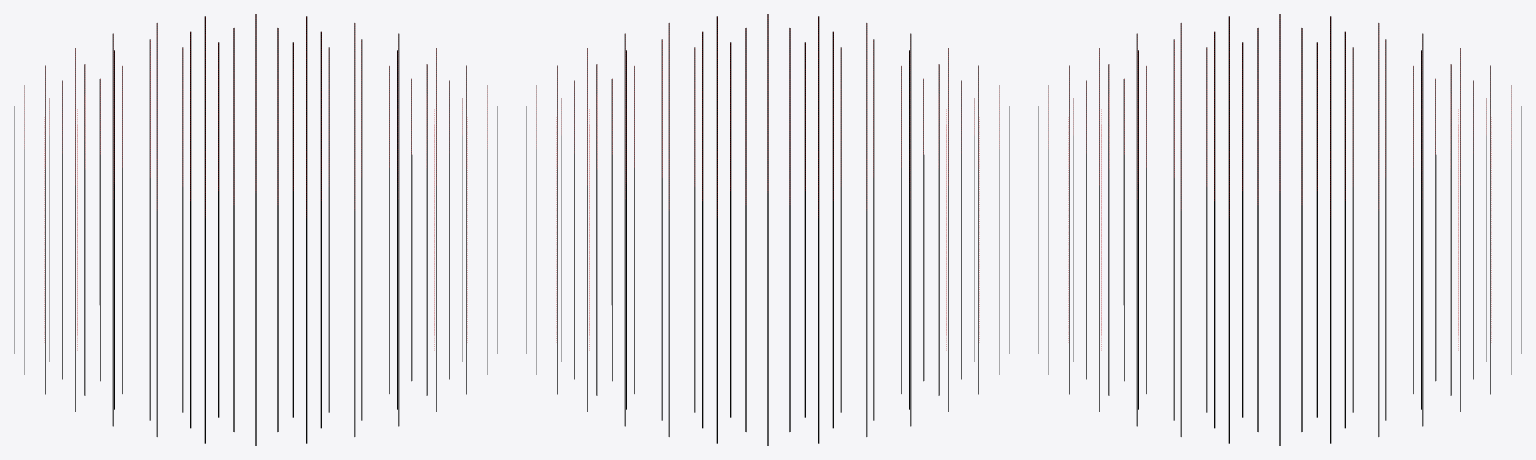
File: LEDテープs.fbx
3 renders of one model, left to right at view 1: azimuth 30°, elevation 25°; view 2: azimuth 150°, elevation 25°; view 3: azimuth 270°, elevation 25°, orthographic.
Bounding box in the file's own units: 389 × 200 × 387.
